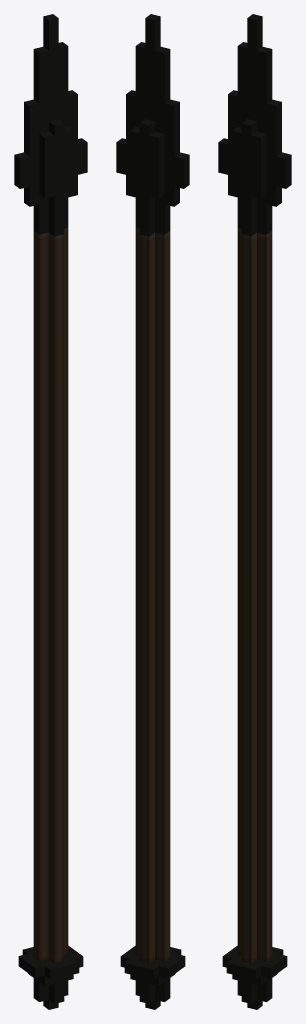
Rendered from Spear_Short.obj.
3 renders of one model, left to right at view 1: azimuth 30°, elevation 25°; view 2: azimuth 150°, elevation 25°; view 3: azimuth 330°, elevation 25°, orthographic.
Parts seen in each view (by area): view 1: Spear_Short; view 2: Spear_Short; view 3: Spear_Short.
Part boxes in pixels (x1,y1,x2,y2): Spear_Short: (14,14,87,1009); Spear_Short: (116,14,189,1009); Spear_Short: (218,14,291,1009).
Size of the model in its own units: 0.07 by 0.98 by 0.05.
2 materials, 1 textured.
